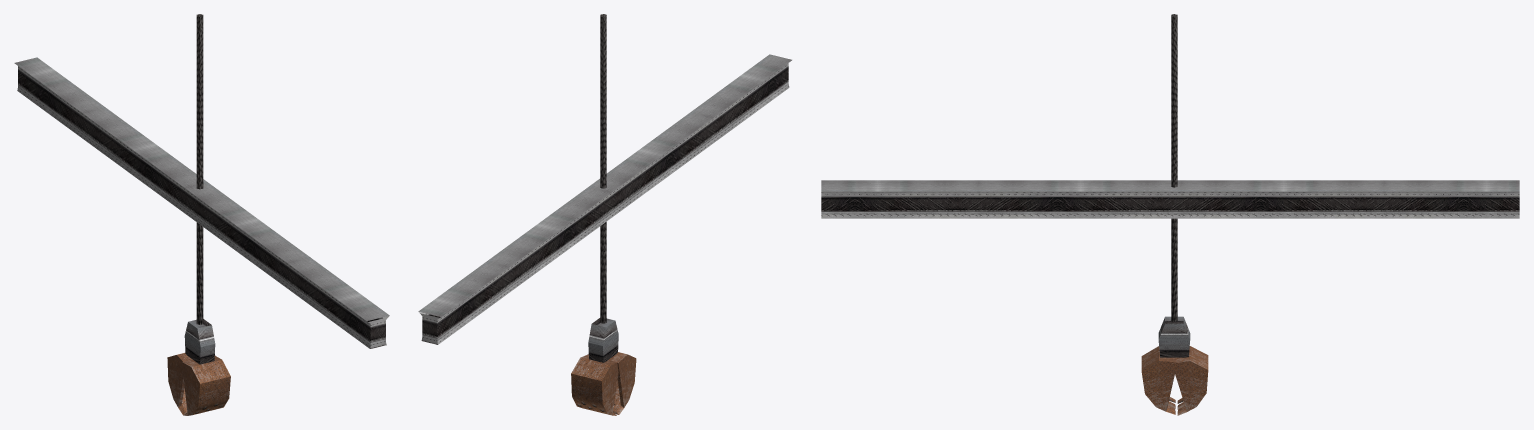
Rendered from Crane.fbx.
3 renders of one model, left to right at view 1: azimuth 30°, elevation 25°; view 2: azimuth 150°, elevation 25°; view 3: azimuth 270°, elevation 25°, orthographic.
Parts seen in each view (by area): view 1: Cube.003, Cylinder, Cube.006, Cube.005; view 2: Cube.003, Cylinder, Cube.005, Cube.006; view 3: Cube.003, Cylinder, Cube.005, Cube.006.
Boxes of the visible parts, <box> form: Cube.003: <box>14,57,389,348</box>; Cylinder: <box>184,14,215,364</box>; Cube.006: <box>182,356,230,415</box>; Cube.005: <box>167,353,215,414</box>; Cube.003: <box>418,54,791,344</box>; Cylinder: <box>588,14,618,362</box>; Cube.005: <box>571,354,618,415</box>; Cube.006: <box>588,352,636,414</box>; Cube.003: <box>821,180,1519,218</box>; Cylinder: <box>1158,14,1190,357</box>; Cube.005: <box>1171,346,1208,415</box>; Cube.006: <box>1141,346,1176,414</box>.
Bounding box in the file's own units: 84.42 × 1004 × 1617.
